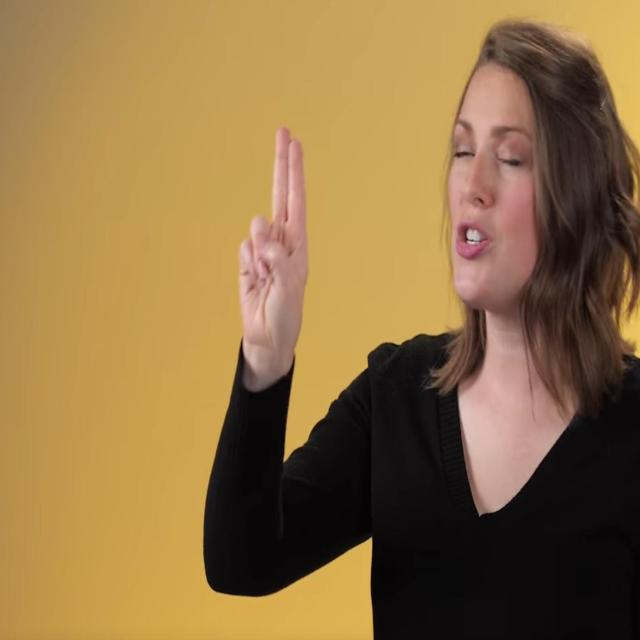U: (236, 121, 313, 359)
